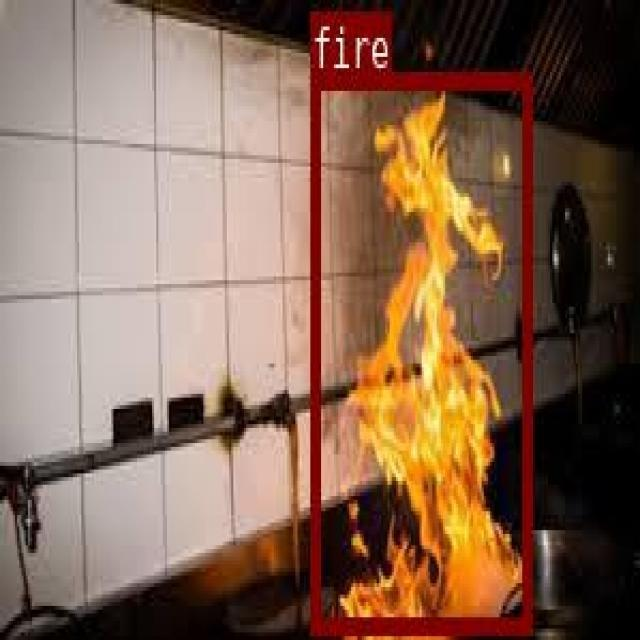fire: (309, 71, 530, 631)
